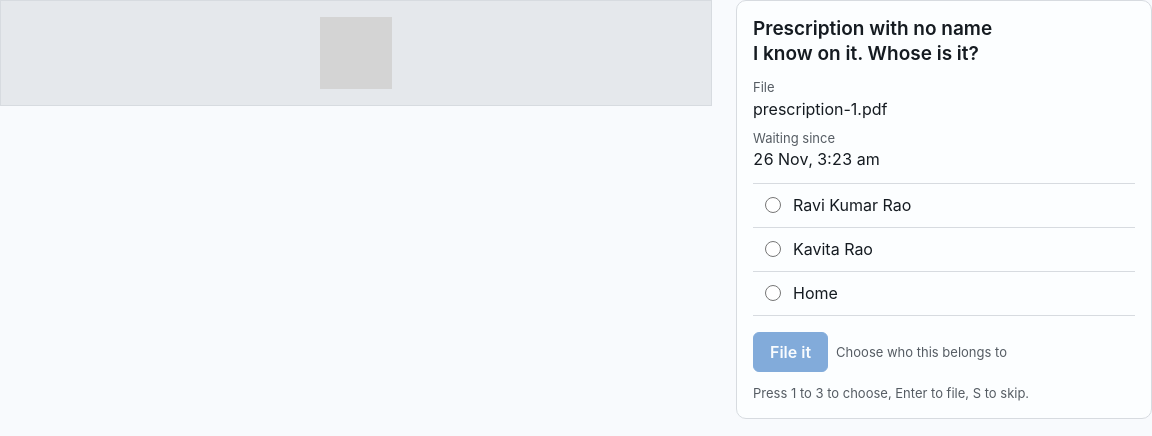
it: NeedsALook › a disabled File it says what enables it, and stops once an answer is chosen
Expected: the button "File it" is disabled, 753,332 -> 828,372
Expected: the text "Choose who this belongs to" is shown, 836,343 -> 1007,361
Click the radio button labelled "Home" at (773, 293), box 765,285 -> 781,301
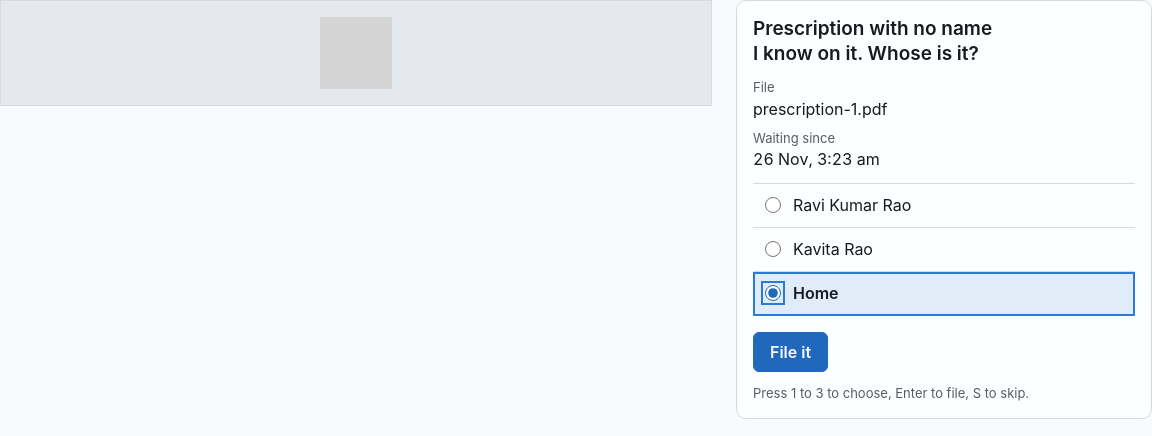
Result: the text "Choose who this belongs to" is gone
